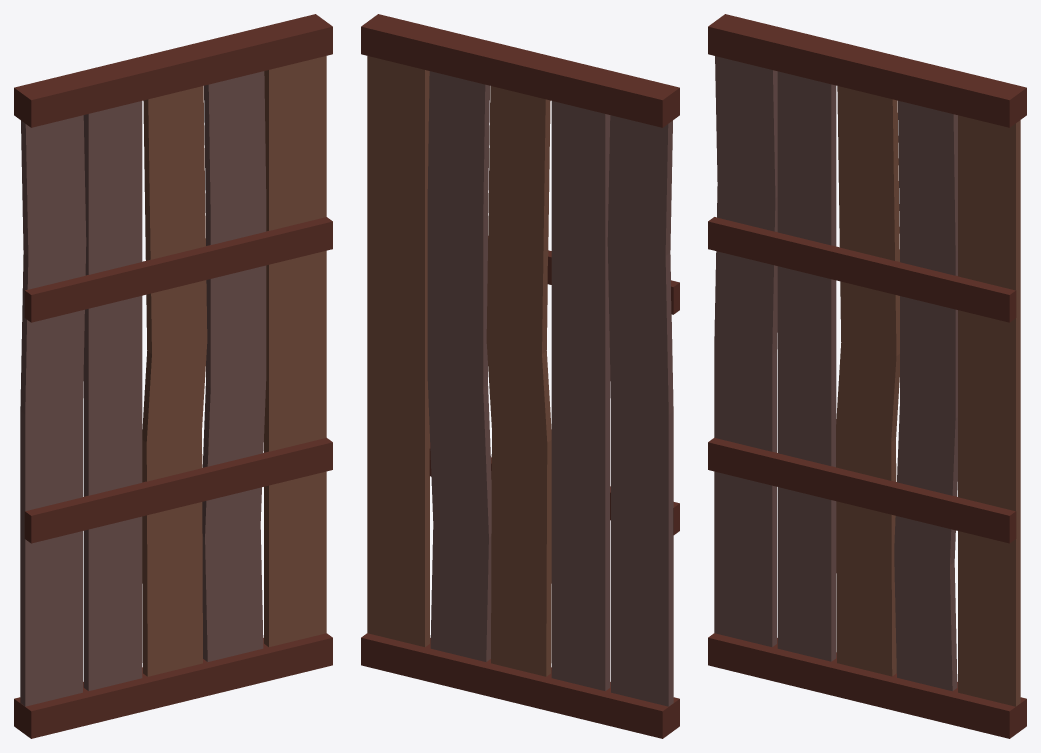
File: ScrapWall1.fbx
3 views of the same model, side by side, from view 1: azimuth 30°, elevation 25°; view 2: azimuth 150°, elevation 25°; view 3: azimuth 330°, elevation 25° (orthographic).
Parts seen in each view (by area): view 1: Cube; view 2: Cube; view 3: Cube.
Boxes of the visible parts, <box> form: Cube: <box>14,14,332,738</box>; Cube: <box>361,14,679,738</box>; Cube: <box>708,14,1026,738</box>.
Size of the model in its own units: 200 by 405 by 19.8.
